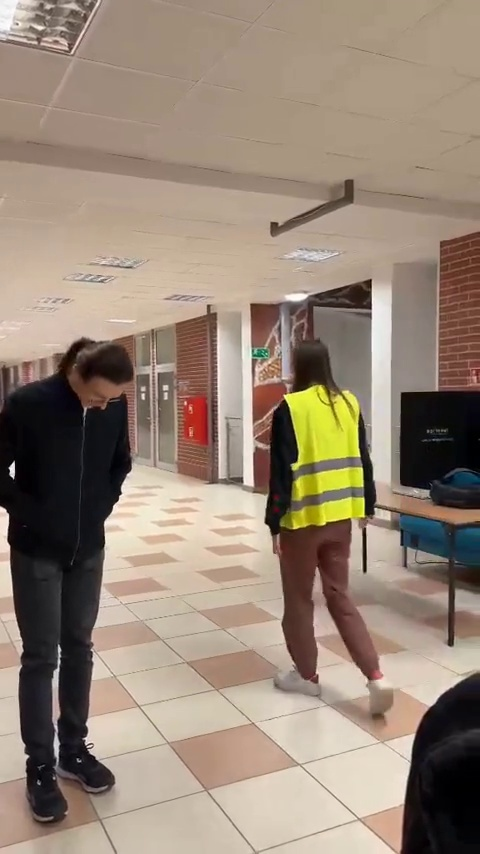no vest: (12, 334, 126, 825)
vest: (256, 329, 414, 716)
